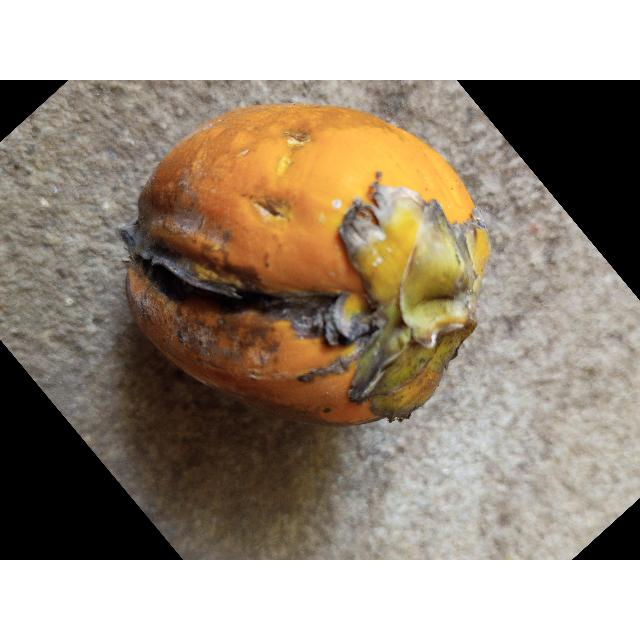damaged: (121, 104, 492, 428)
